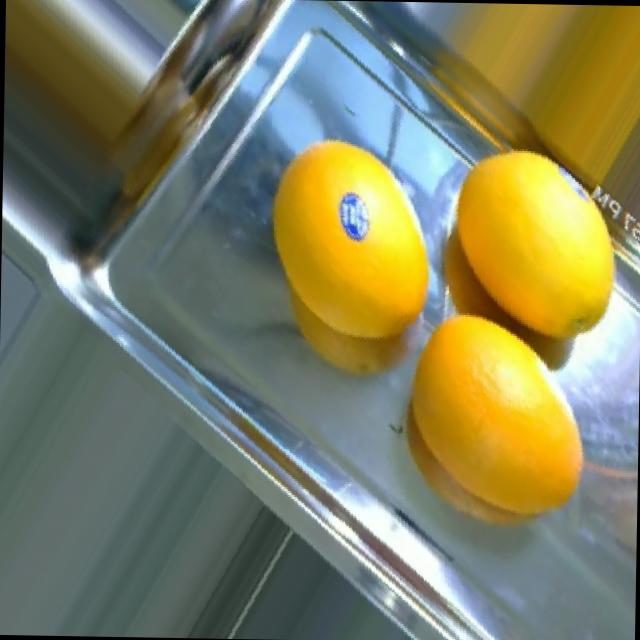Fruit: (410, 372, 608, 556), (253, 204, 432, 406)
